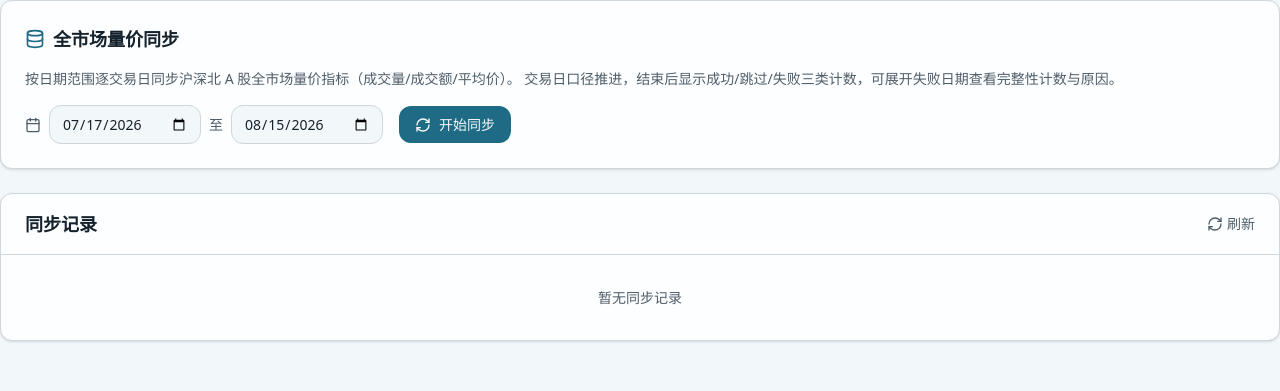
MarketMetricsSyncPanel › 默认渲染与前端校验（AC-10） › 起止倒置：按钮禁用 + 行内错误提示
Type "2026-08-10" into the date field named "开始日期" at (125,124), box [49, 105, 201, 144]
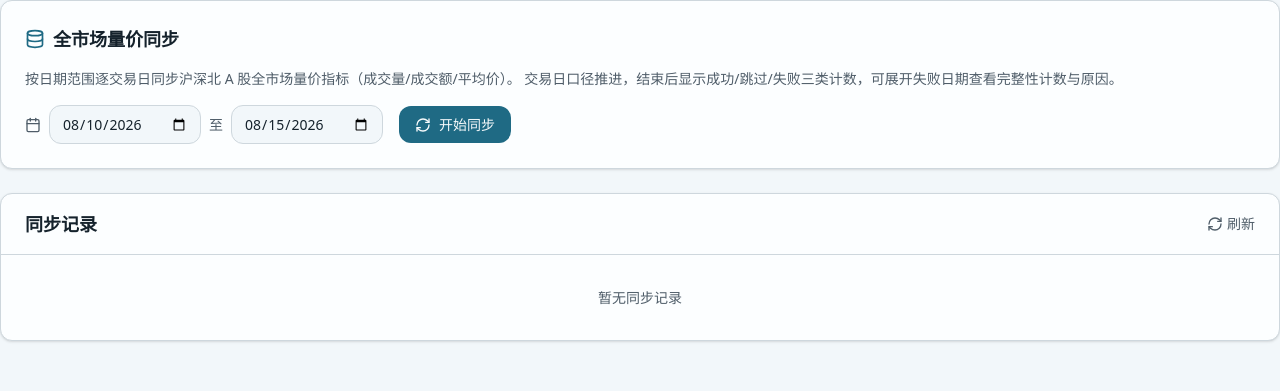
Type "2026-08-01" into the date field named "结束日期" at (307,124), box [231, 105, 383, 144]
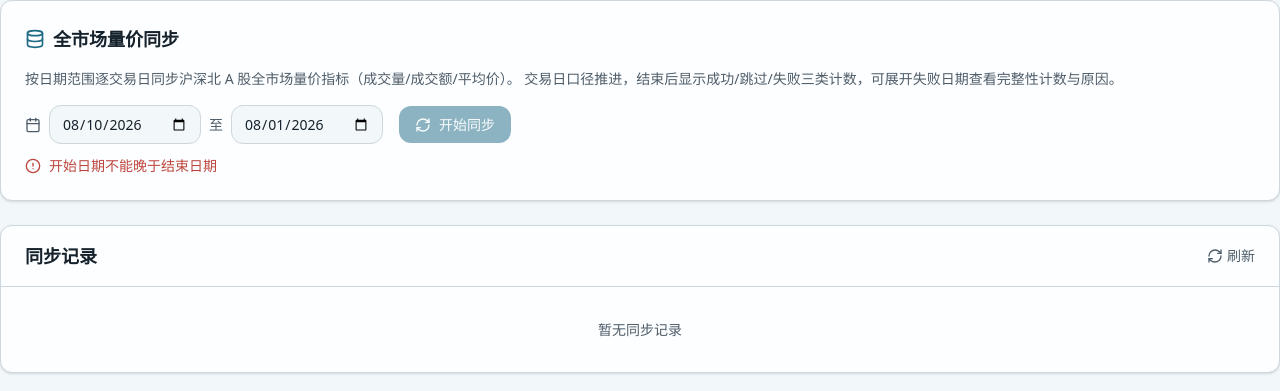
Now the button with test id "market-metrics-sync-start-button" is disabled, box [399, 106, 511, 143]
Now the element with test id "market-metrics-sync-validation-error" shows "不能晚于", box [49, 156, 217, 175]
